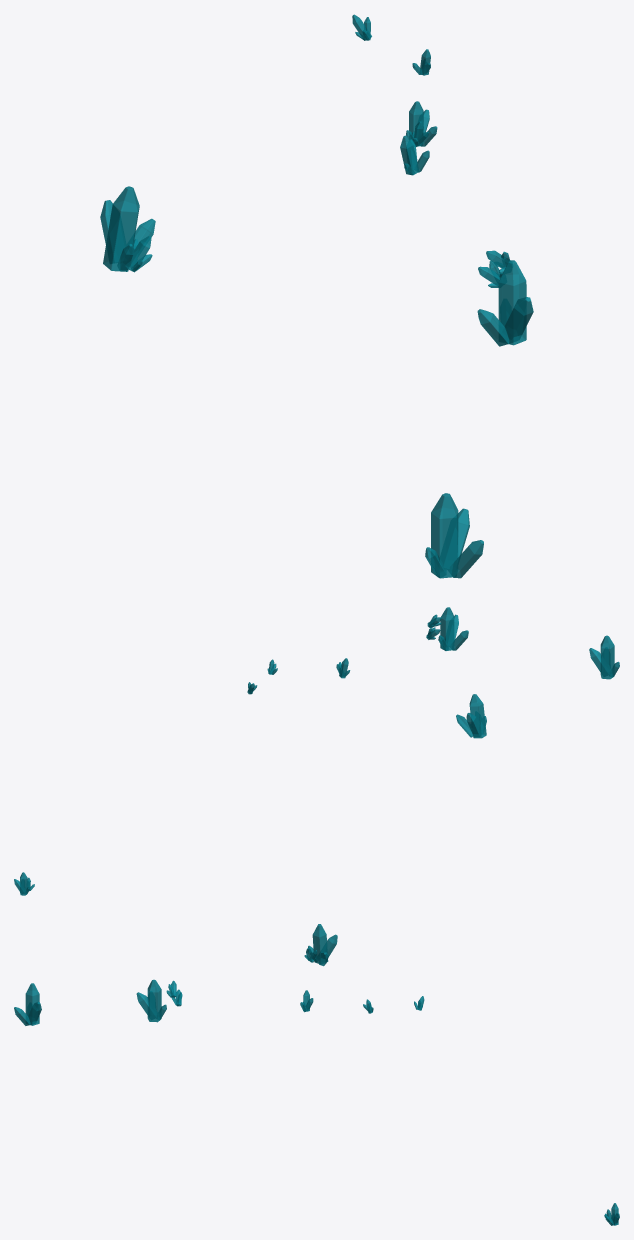
Rendered from gems.fbx.
3 renders of one model, top to bottom at view 1: azimuth 30°, elevation 25°; view 2: azimuth 150°, elevation 25°; view 3: azimuth 270°, elevation 25°, orthographic. The views are drawn at different scales.
Visible parts, largest first — view 1: pCylinder13, pCylinder10, pCylinder11; view 2: pCylinder11, pCylinder10, pCylinder13; view 3: pCylinder11, pCylinder13, pCylinder10.
Boxes of the visible parts, <box> form: pCylinder13: <box>425,493,483,578</box>; pCylinder10: <box>100,186,155,271</box>; pCylinder11: <box>477,260,533,346</box>; pCylinder11: <box>438,607,468,650</box>; pCylinder10: <box>456,694,486,738</box>; pCylinder13: <box>589,635,619,679</box>; pCylinder11: <box>136,979,166,1022</box>; pCylinder13: <box>14,983,41,1025</box>; pCylinder10: <box>308,924,337,966</box>.
Size of the model in its own units: 52.54 by 27.15 by 89.08.
